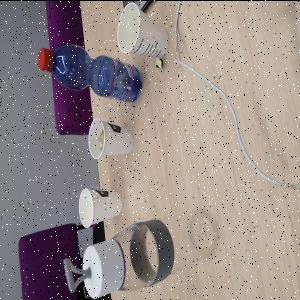Cup: (118, 2, 170, 59), (89, 118, 135, 160), (79, 188, 125, 229)
Plastic-bottle: (83, 211, 217, 300), (38, 41, 145, 105)
